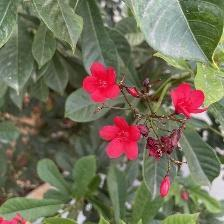jatropha: (97, 115, 144, 166), (82, 61, 123, 106), (168, 83, 211, 121)
